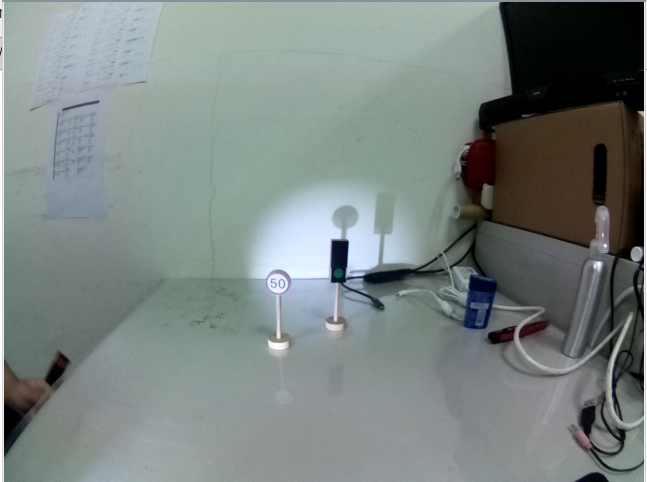Green: (328, 238, 350, 291)
Red: (41, 348, 72, 390)
Speed50: (266, 269, 293, 298)
